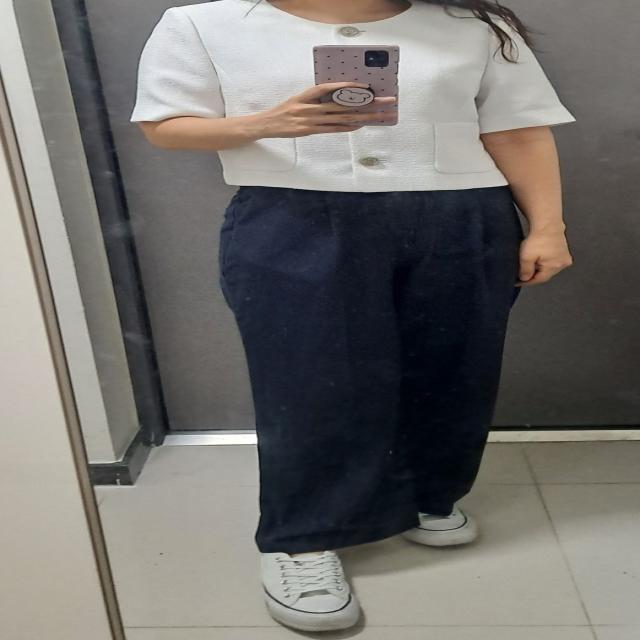blazer: (129, 3, 576, 192)
slacks: (220, 183, 526, 555)
